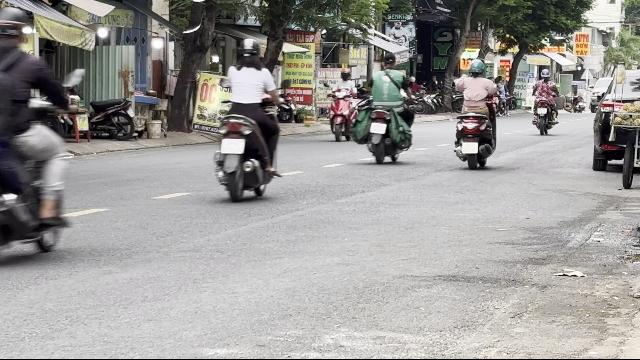helmet: (238, 38, 262, 68), (468, 59, 486, 77)
licenseplate: (221, 138, 245, 154), (462, 142, 478, 154), (370, 122, 386, 134)
motorcyclist: (212, 37, 282, 201), (362, 52, 413, 162), (450, 58, 500, 170)
nohelmet: (380, 52, 396, 68)
